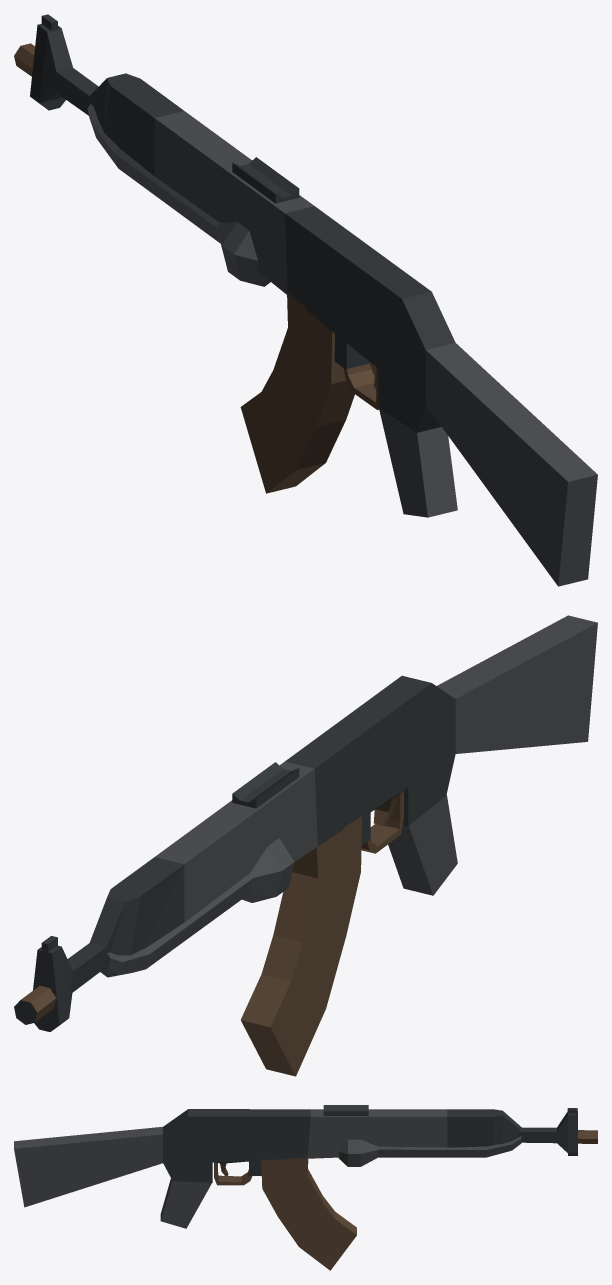
3 renders of one model, top to bottom at view 1: azimuth 30°, elevation 25°; view 2: azimuth 150°, elevation 25°; view 3: azimuth 270°, elevation 25°, orthographic. The views are drawn at different scales.
Parts seen in each view (by area): view 1: AK47_Cube.001; view 2: AK47_Cube.001; view 3: AK47_Cube.001.
Part boxes in pixels (x1,y1,x2,y2): AK47_Cube.001: (14,14,597,586); AK47_Cube.001: (14,615,597,1076); AK47_Cube.001: (14,1105,597,1270).
Bounding box in the file's own units: 0.0694 × 0.3324 × 1.11.
